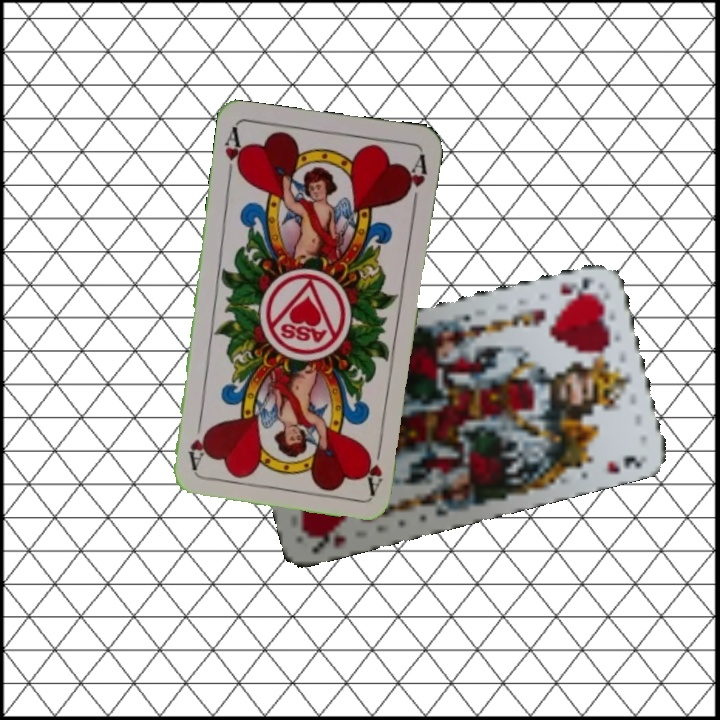HA: (220, 124, 247, 184), (364, 436, 385, 495)
HK: (304, 521, 348, 556), (557, 273, 598, 299)
